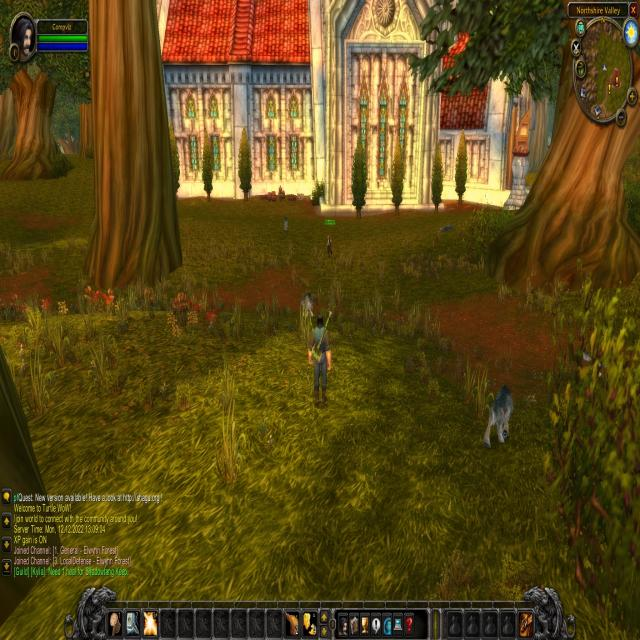wolf: (479, 376, 518, 452), (298, 287, 317, 326), (436, 218, 456, 238), (282, 210, 291, 235)
